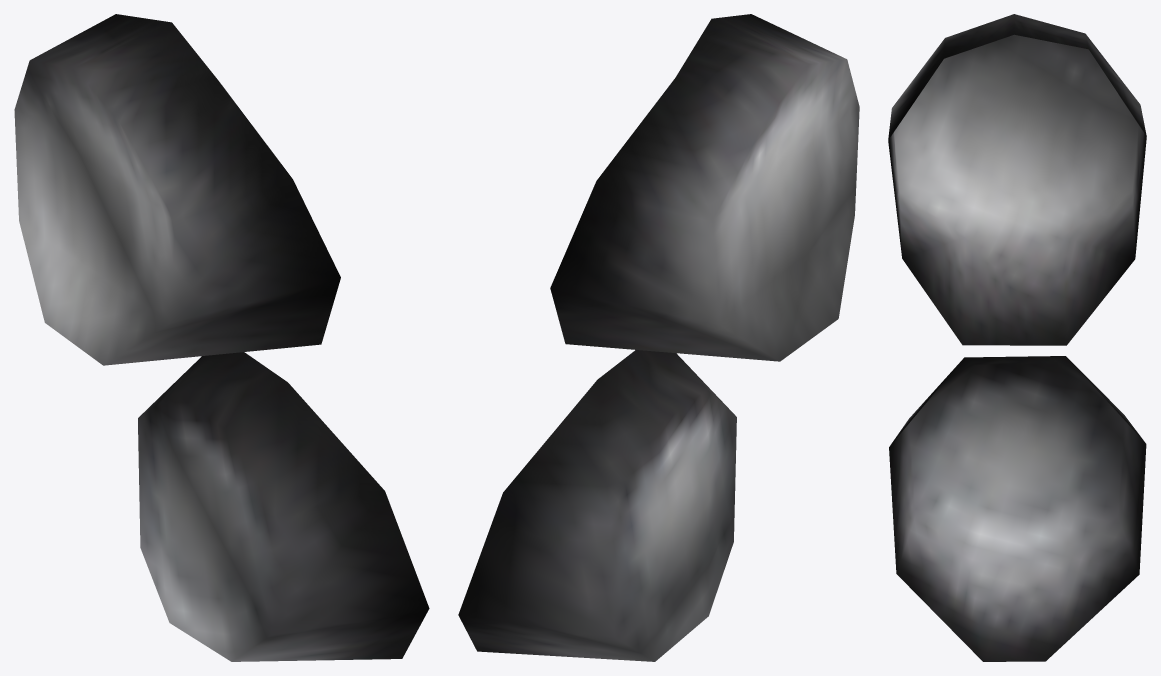
The model's file is glow_mesh.FBX.
The picture shows the model from 3 angles, left to right: view 1: azimuth 30°, elevation 25°; view 2: azimuth 150°, elevation 25°; view 3: azimuth 270°, elevation 25°; orthographic projection. The views are drawn at different scales.
Visible parts, largest first — view 1: Group002; view 2: Group002; view 3: Group002.
Part boxes in pixels (x1=…): Group002: x1=14, y1=14, x2=429, y2=661; Group002: x1=458, y1=14, x2=859, y2=661; Group002: x1=888, y1=14, x2=1146, y2=661.
Size of the model in its own units: 8.41 by 17.3 by 7.46.
